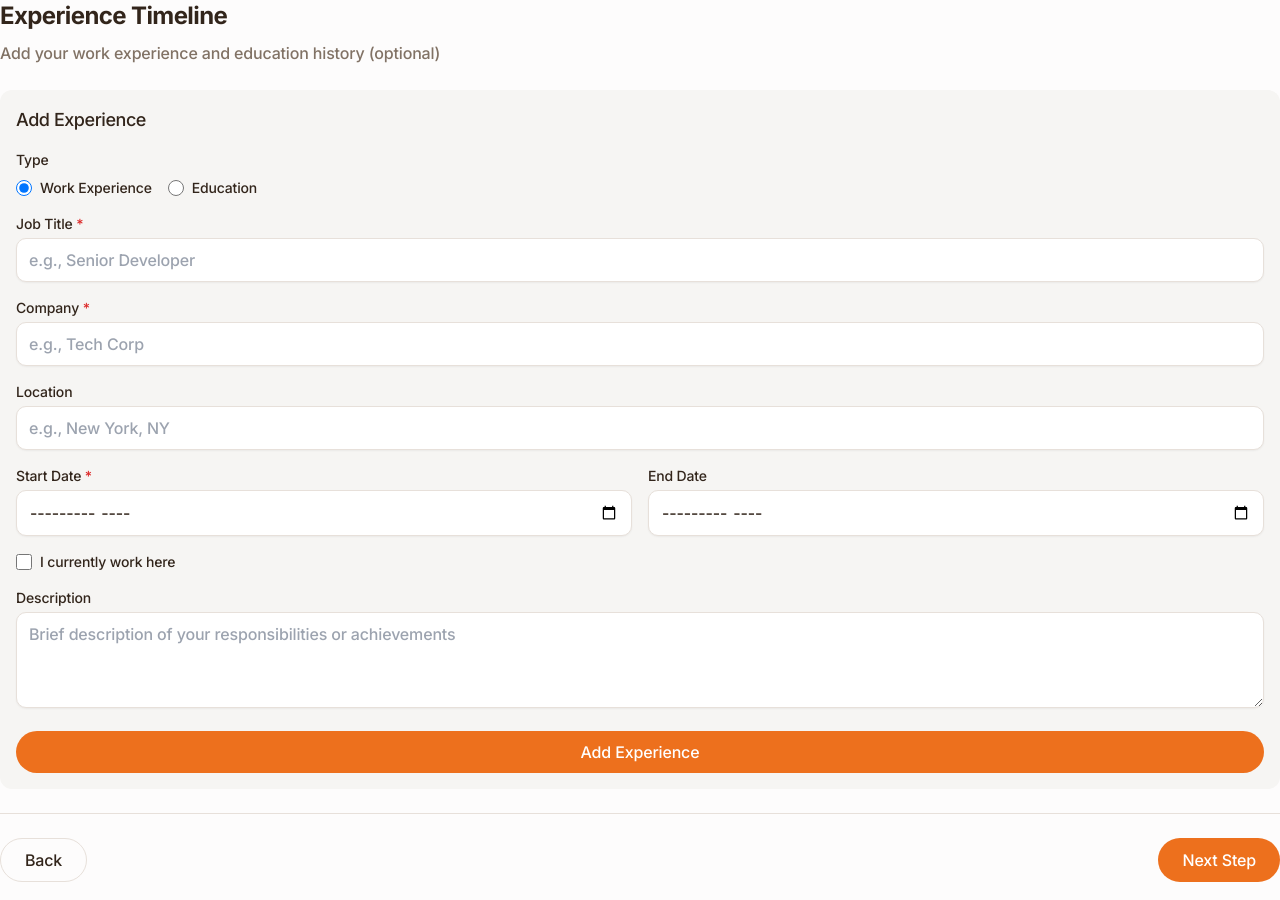
Test: Step3ExperienceTimeline › Form Validation › shows error when title is empty
Step 1. Click the button "Add Experience" → (640,752), box [16,731,1264,773]
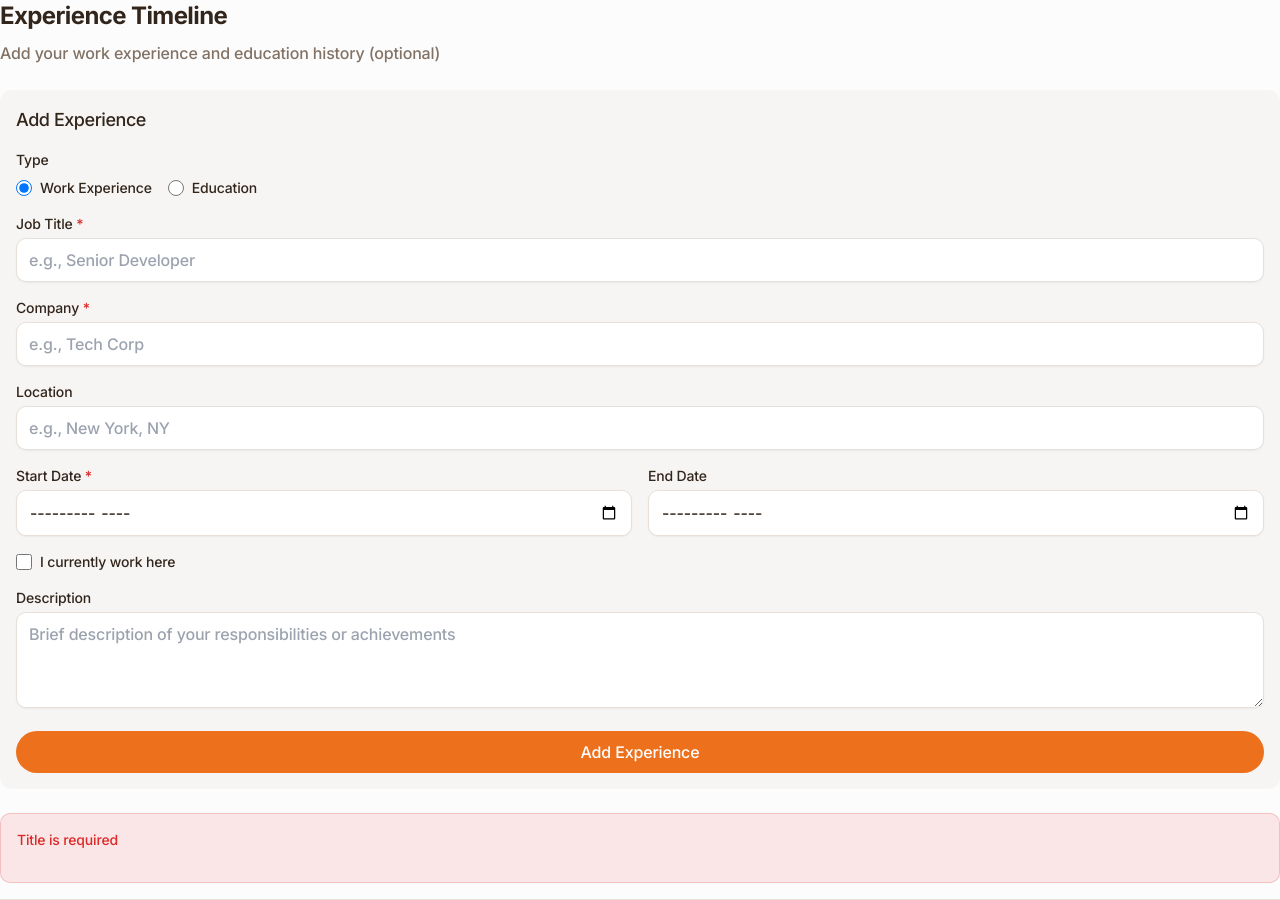
Check: the text "Title is required" is shown, box [17,831,118,848]
